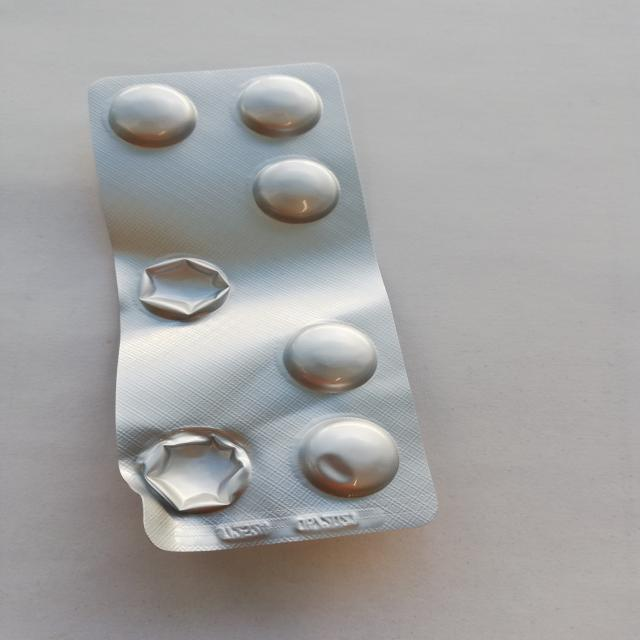Empty: (130, 426, 259, 521), (126, 248, 239, 326)
Pill: (287, 416, 409, 498), (270, 321, 386, 392), (246, 151, 348, 228), (224, 70, 335, 138), (98, 82, 208, 149)
